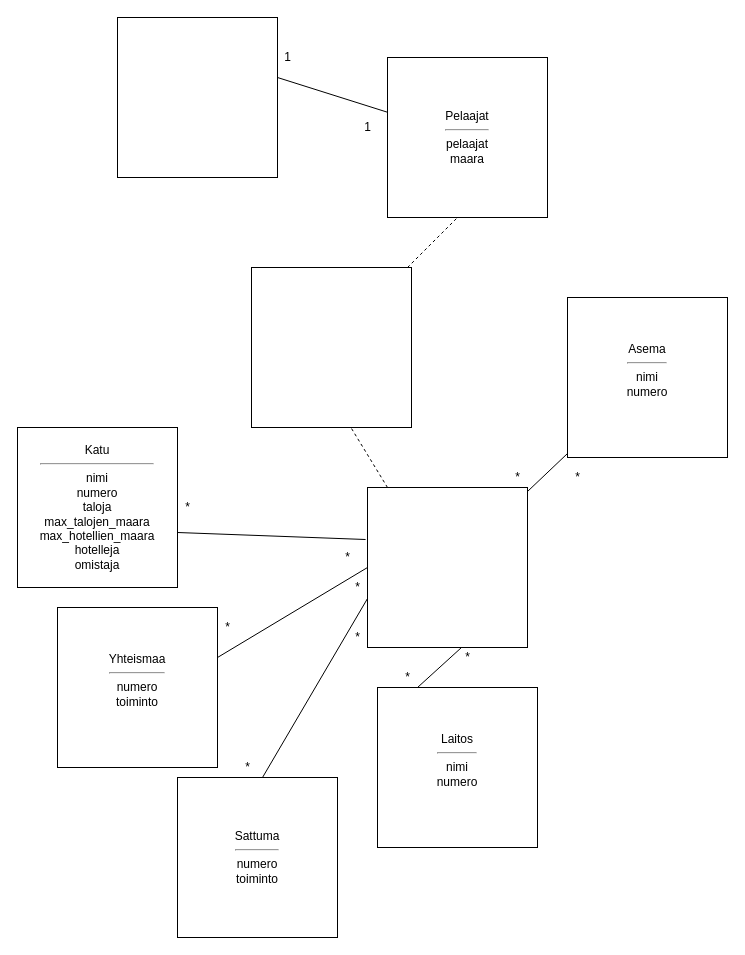
This 745x955 diagram has some shape labels left out. Each missing label, with the centre of its shape:
Lauta ruudut ruutujen_maara ruutu seuraava edellinen aloitus: (331,347)
Pelaaja nimi pelinappula sijaint rahaa: (197,97)
Ruudut laitokset asemat vankila yhteismaat sattumat kadut: (447,567)
